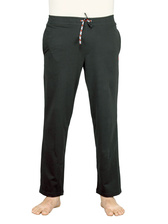clothoes: (34, 14, 126, 197)
